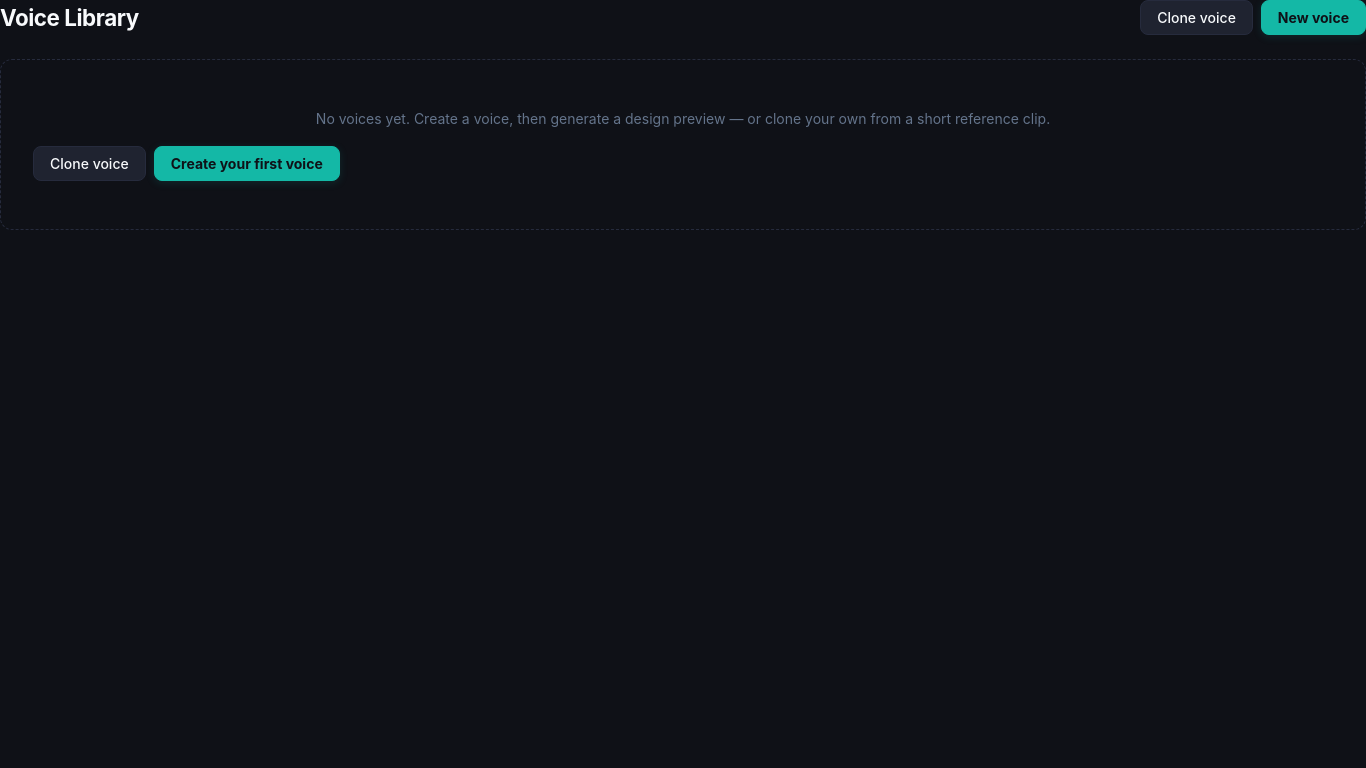
VoiceLibraryPage — create & design › disables submit until name, description and reference text are filled
This screenshot has width=1366, height=768.
Click the button "New voice" at (1313, 18), box [1261,0,1365,35]
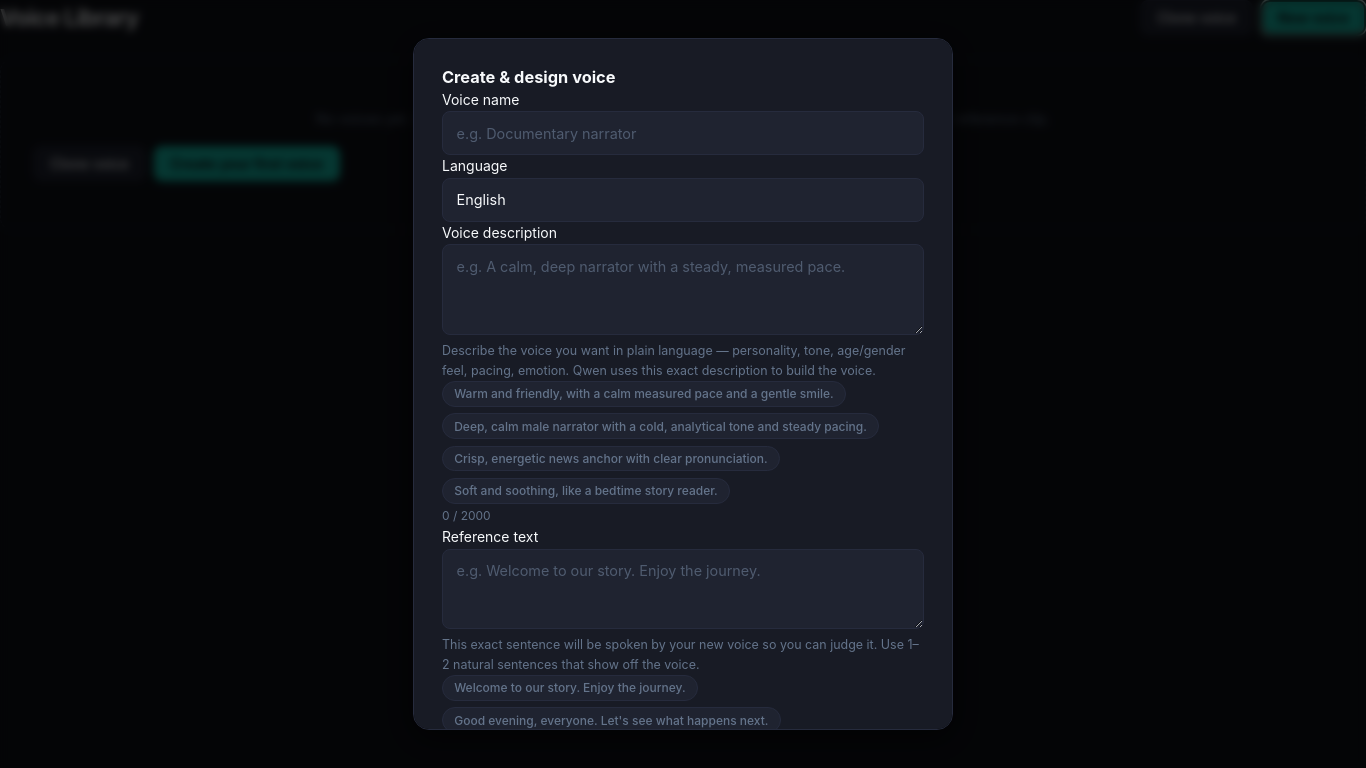
Type "Narrator" into the field named "voice name" at (683, 133), box [442,111,924,155]
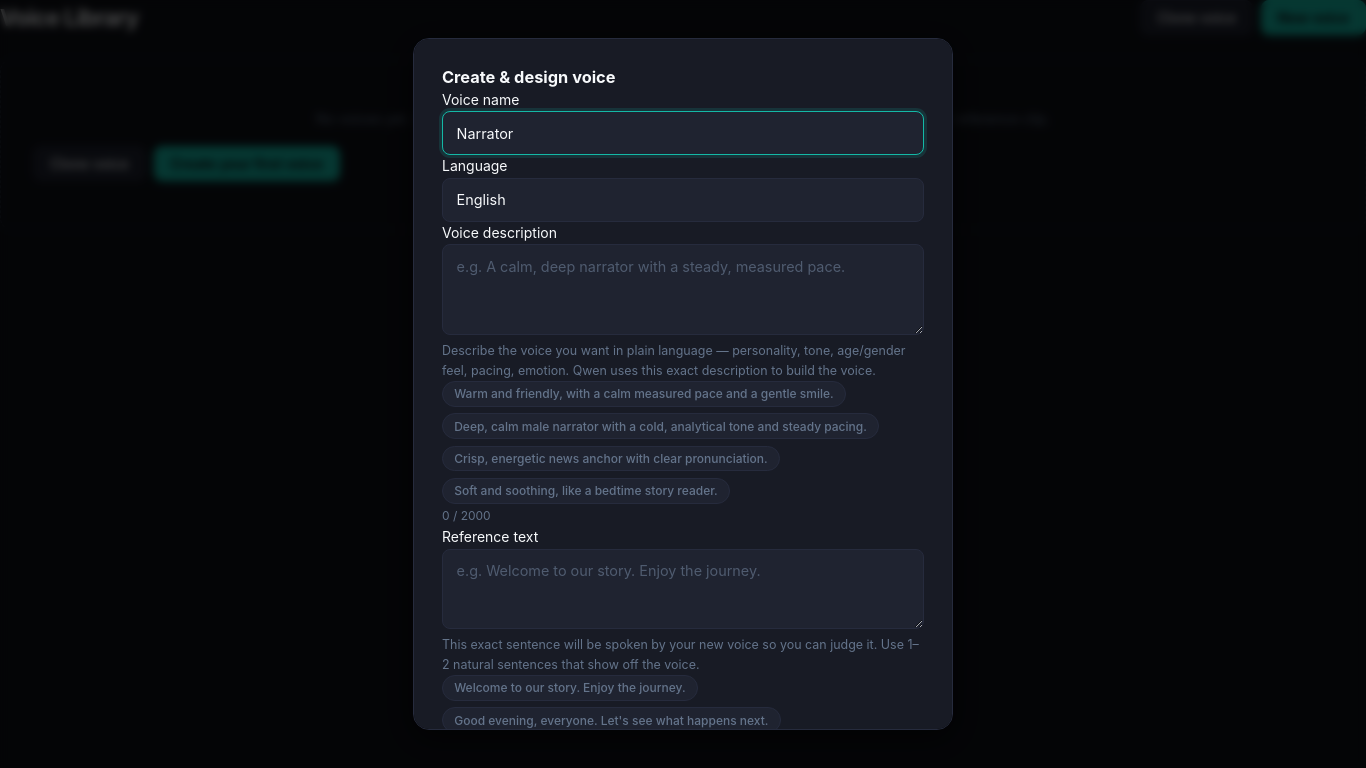
Type "A calm voice" into the text box named "voice description" at (683, 289), box [442,244,924,334]
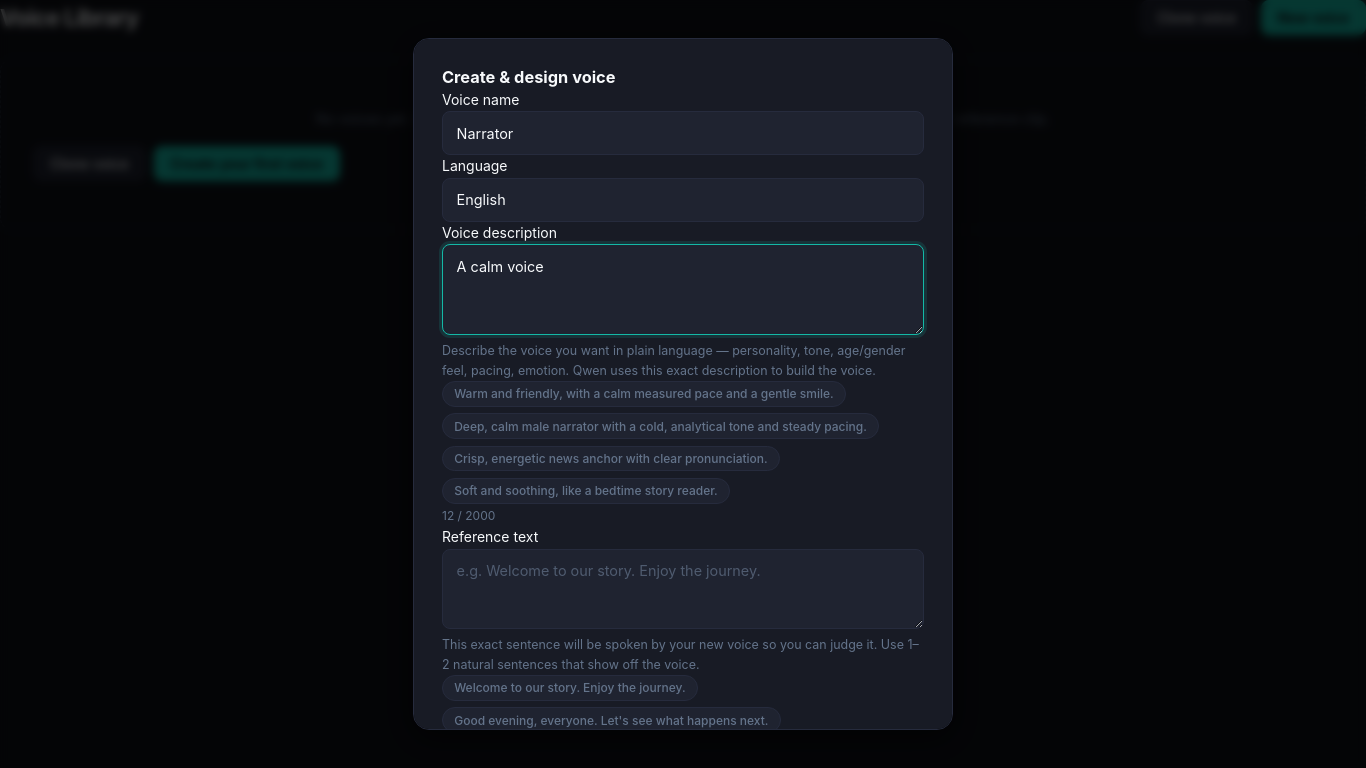
Type "Hello world" into the text box named "reference text" at (683, 589), box [442,549,924,629]
(page scrolled)
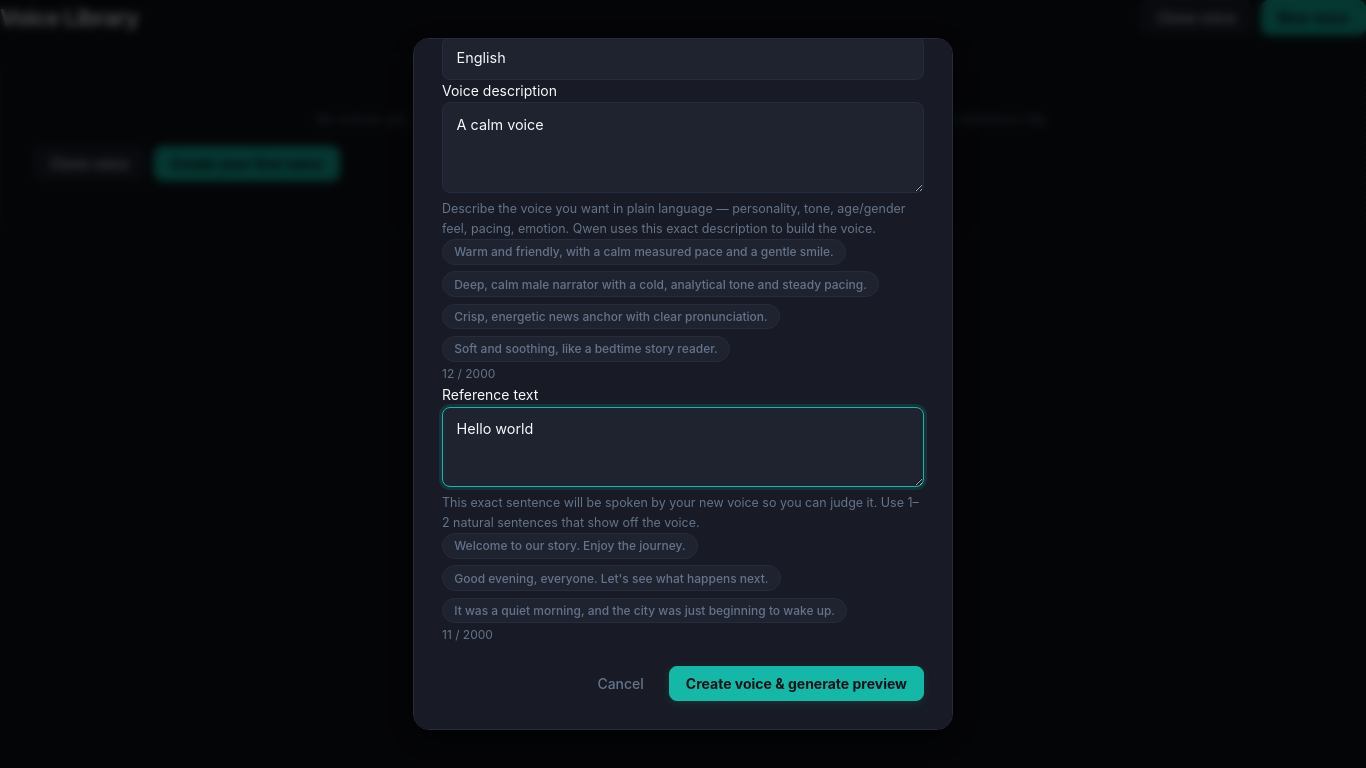
Now the button "Create voice & generate preview" is enabled, box [669,666,924,701]
